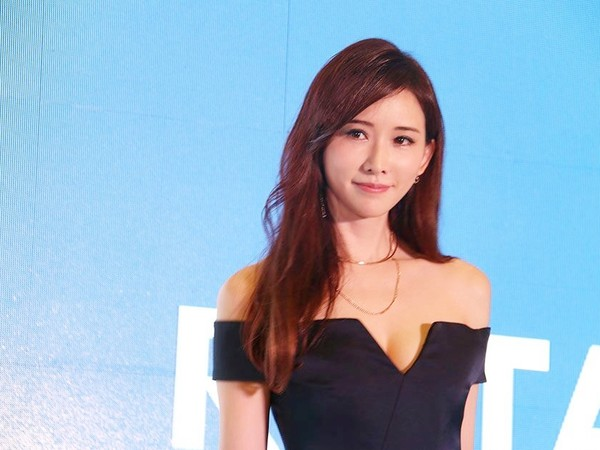person: (211, 37, 495, 450)
